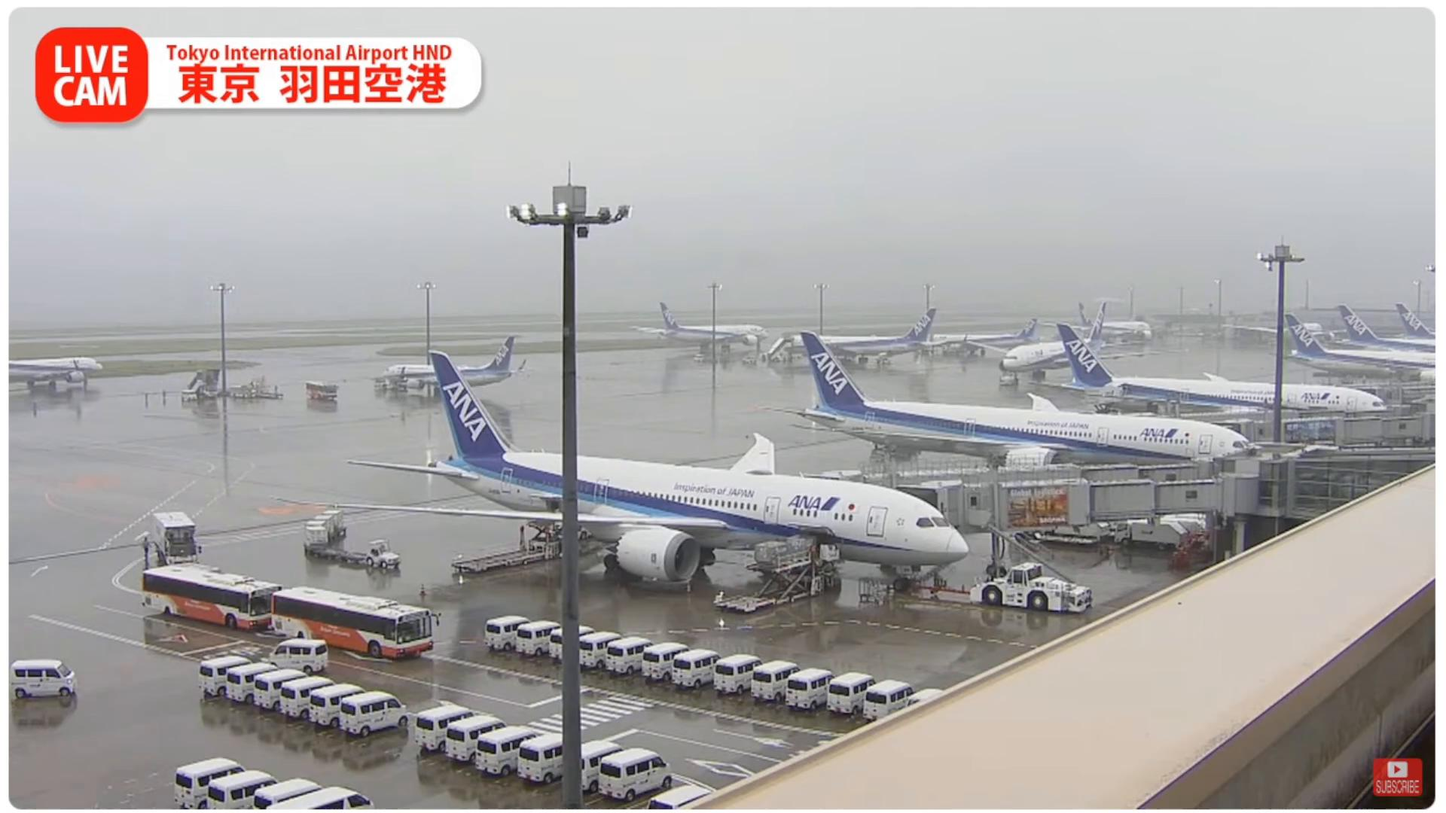APS: (968, 562, 1094, 614)
Aerobridge: (892, 474, 1261, 535), (796, 455, 1210, 487)
Airplane: (270, 351, 970, 592)
Catering: (152, 511, 200, 567)
Dolly: (304, 526, 366, 563)
JCPL: (711, 554, 833, 609), (452, 522, 563, 573)
Tractor: (366, 539, 400, 570)
Window: (1292, 458, 1433, 516)
